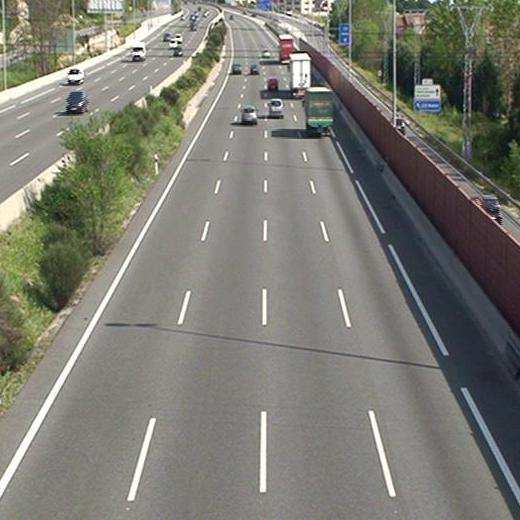car: (268, 99, 284, 117), (241, 106, 257, 124), (267, 78, 279, 90), (231, 63, 242, 75), (249, 63, 260, 74)
small-truck: (304, 87, 334, 134)
truck: (288, 53, 311, 94), (279, 35, 294, 64)
